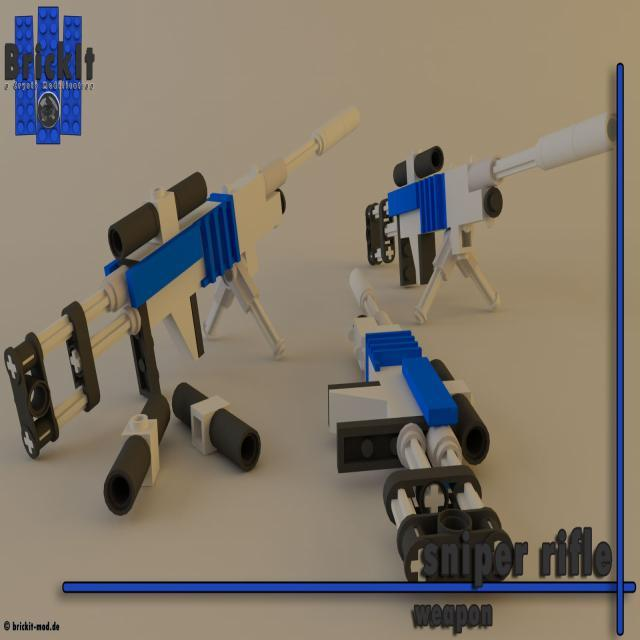weapon: (2, 88, 364, 466), (367, 102, 616, 277)
